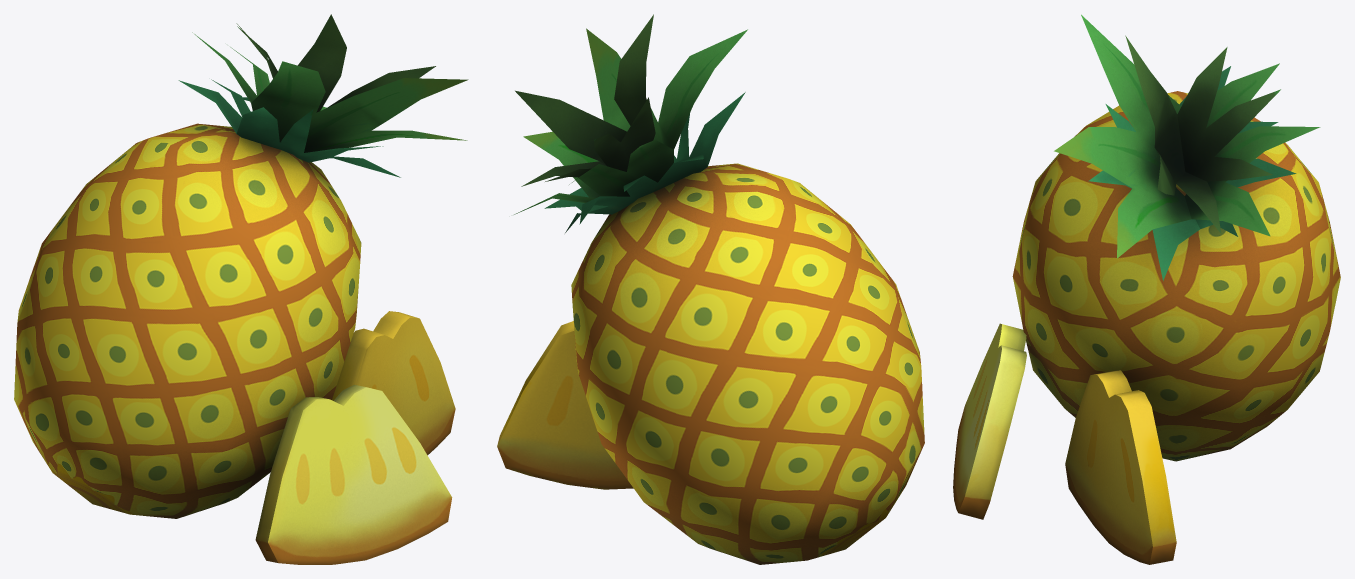
The model's file is Pineapple.fbx.
3 views of the same model, side by side, from view 1: azimuth 30°, elevation 25°; view 2: azimuth 150°, elevation 25°; view 3: azimuth 270°, elevation 25° (orthographic).
Visible parts, largest first — view 1: 034; view 2: 034; view 3: 034.
Part boxes in pixels (<box>): 034: <box>14,14,468,564</box>; 034: <box>497,14,924,564</box>; 034: <box>953,14,1340,564</box>.
Bounding box in the file's own units: 36.41 × 40.24 × 29.22.
Materials: 1 (1 with a texture image).
